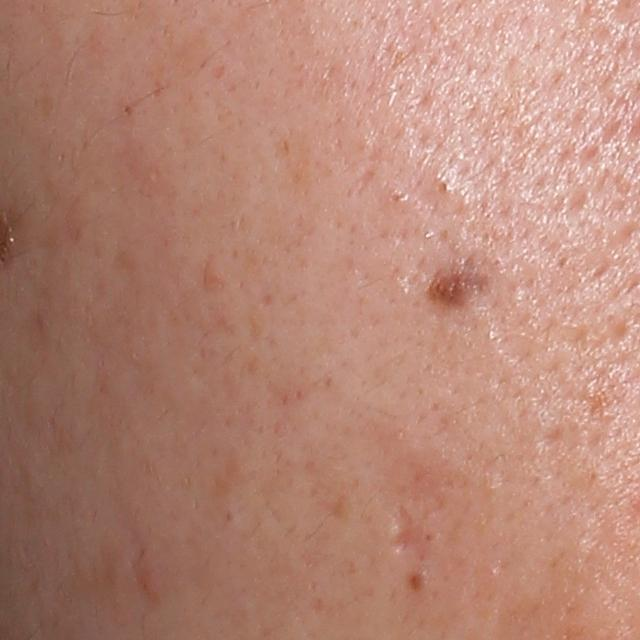atrophic_scar: (387, 503, 433, 568)
comedo: (429, 174, 454, 201), (384, 187, 410, 211)
nevus: (422, 265, 496, 319)
